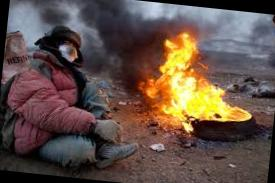Fire: (155, 35, 248, 126)
Smoke: (79, 0, 171, 90)
